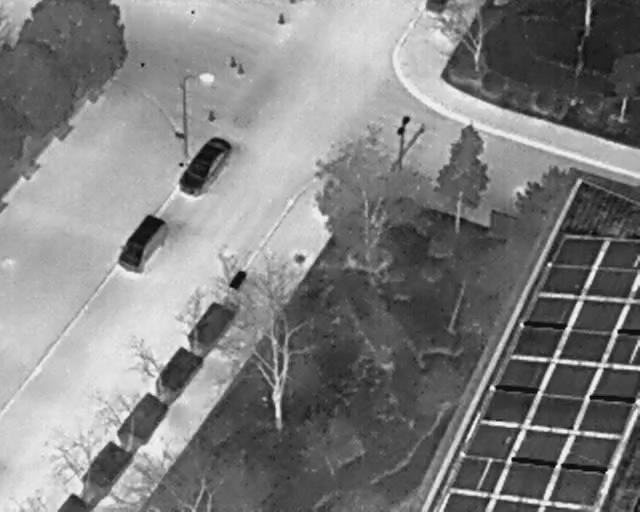Car: (171, 128, 238, 207), (110, 204, 176, 280)
